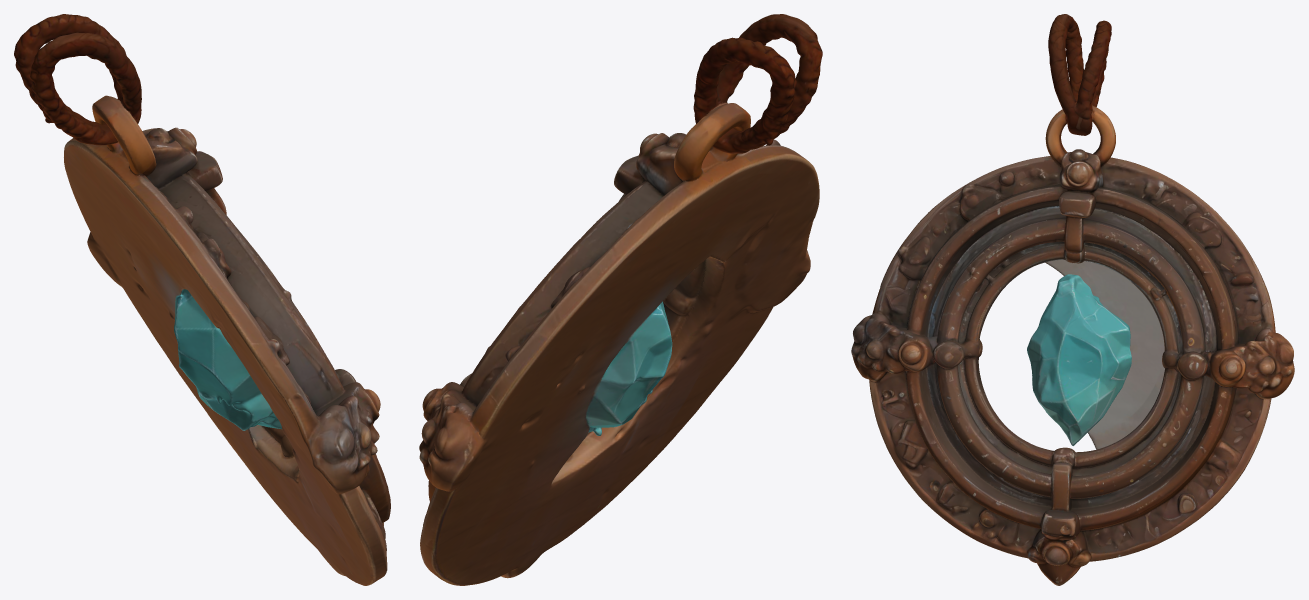
File: تعويذة_الأفق.glb
3 views of the same model, side by side, from view 1: azimuth 30°, elevation 25°; view 2: azimuth 150°, elevation 25°; view 3: azimuth 270°, elevation 25° (orthographic). The views are drawn at different scales.
Parts seen in each view (by area): view 1: tripo_node_f40076b9-2ef7-48ee-841e-d79cf8b3394b; view 2: tripo_node_f40076b9-2ef7-48ee-841e-d79cf8b3394b; view 3: tripo_node_f40076b9-2ef7-48ee-841e-d79cf8b3394b.
Part boxes in pixels (left/top/right/bottom): tripo_node_f40076b9-2ef7-48ee-841e-d79cf8b3394b: left=14, top=14, right=390, bottom=585; tripo_node_f40076b9-2ef7-48ee-841e-d79cf8b3394b: left=419, top=14, right=822, bottom=585; tripo_node_f40076b9-2ef7-48ee-841e-d79cf8b3394b: left=851, top=14, right=1294, bottom=585.
Bounding box in the file's own units: 0.5915 × 1 × 0.8652.
1 material, 1 textured.
